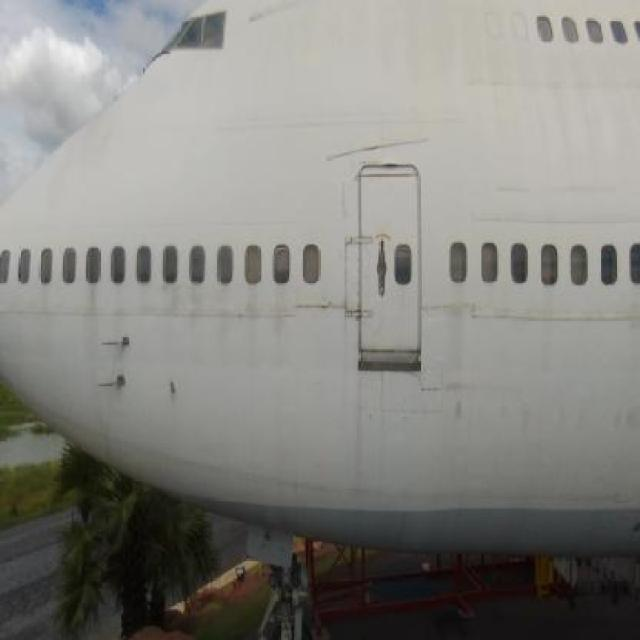Missing-Rivet: (342, 228, 366, 330)
Scartch: (317, 118, 434, 160), (243, 0, 299, 29), (293, 295, 344, 316)
